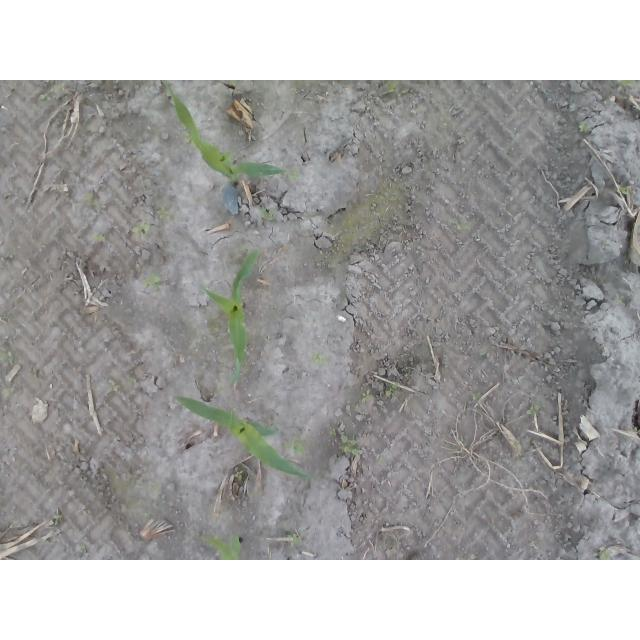Maize: (173, 396, 323, 484), (162, 81, 289, 183), (200, 250, 258, 386), (198, 534, 244, 559)
Weeds: (284, 434, 308, 459), (338, 436, 363, 459), (39, 82, 65, 103), (382, 81, 410, 96), (183, 130, 201, 150), (130, 221, 150, 239), (382, 383, 400, 399), (312, 352, 328, 369), (456, 216, 470, 235), (88, 190, 100, 212), (617, 81, 640, 92), (259, 205, 277, 219), (143, 275, 161, 289), (88, 234, 108, 246), (456, 434, 470, 451), (288, 530, 301, 547), (28, 367, 49, 377), (527, 403, 541, 417), (595, 547, 609, 560), (108, 380, 121, 393), (480, 343, 492, 357), (51, 508, 61, 524), (361, 389, 371, 403), (615, 293, 626, 305), (1, 351, 12, 363), (438, 116, 448, 129), (577, 122, 590, 132), (156, 208, 170, 217), (619, 185, 630, 196), (125, 376, 138, 385), (1, 388, 12, 398), (286, 170, 299, 178), (234, 468, 244, 477), (472, 392, 482, 400), (377, 458, 388, 465), (602, 239, 611, 245), (311, 317, 317, 325)
